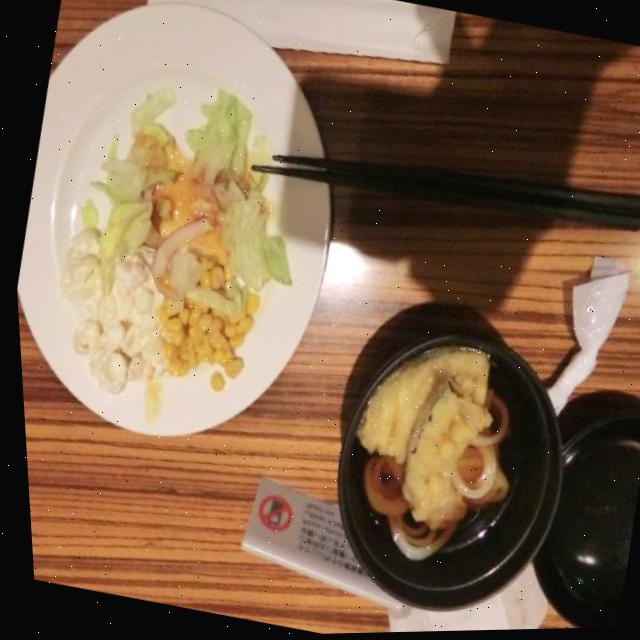蔬菜料理: (15, 51, 263, 401)
面条主食: (196, 256, 443, 609)
